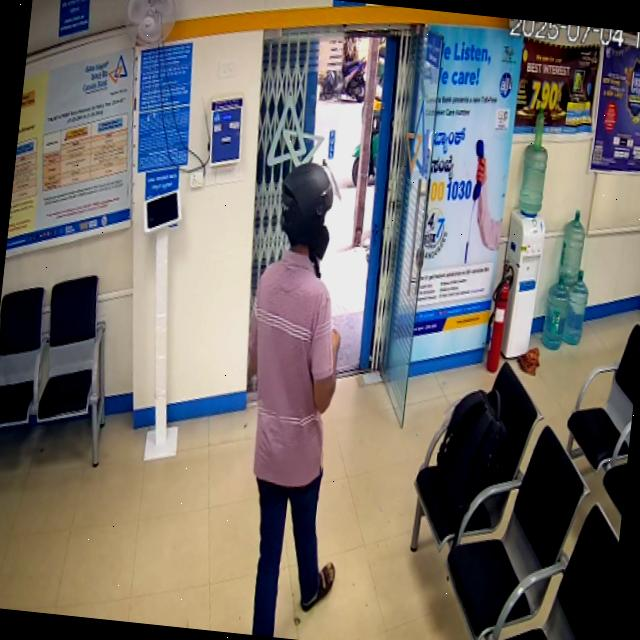helmet: (280, 163, 341, 258)
